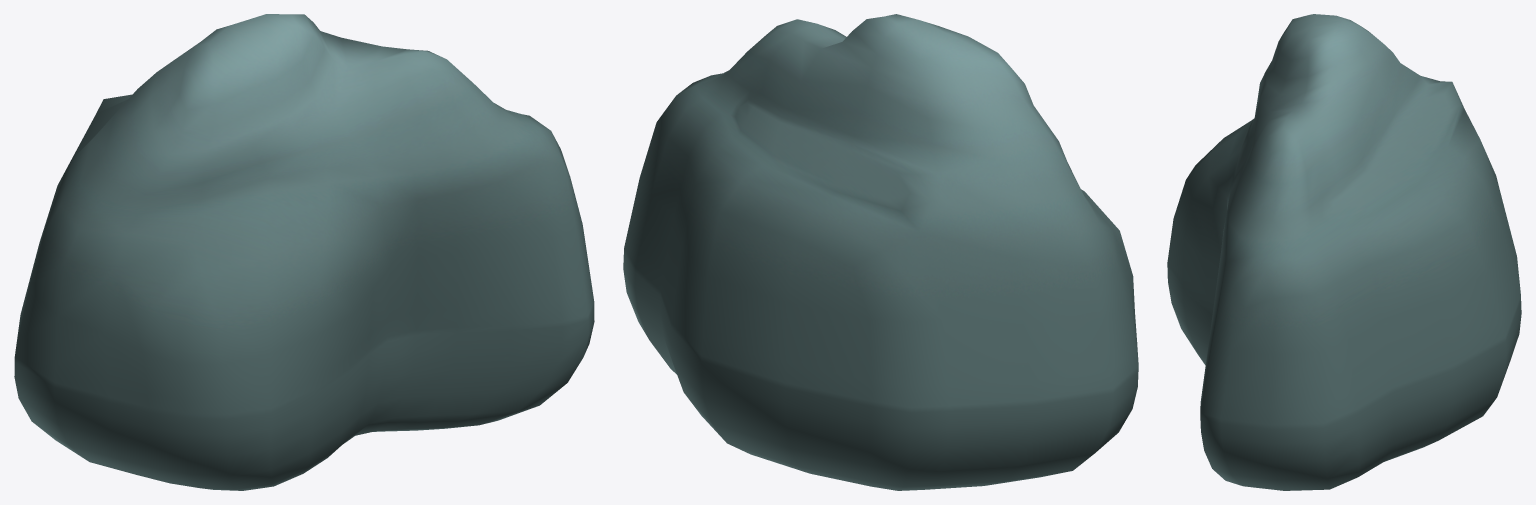
File: ROCK02.fbx
3 renders of one model, left to right at view 1: azimuth 30°, elevation 25°; view 2: azimuth 150°, elevation 25°; view 3: azimuth 270°, elevation 25°, orthographic. The views are drawn at different scales.
Parts seen in each view (by area): view 1: ROCK02; view 2: ROCK02; view 3: ROCK02.
Boxes of the visible parts, left/top/right/bottom form: ROCK02: left=14, top=14, right=594, bottom=490; ROCK02: left=623, top=14, right=1138, bottom=490; ROCK02: left=1167, top=14, right=1521, bottom=490.
Bounding box in the file's own units: 7.92 × 6.2 × 5.2.
